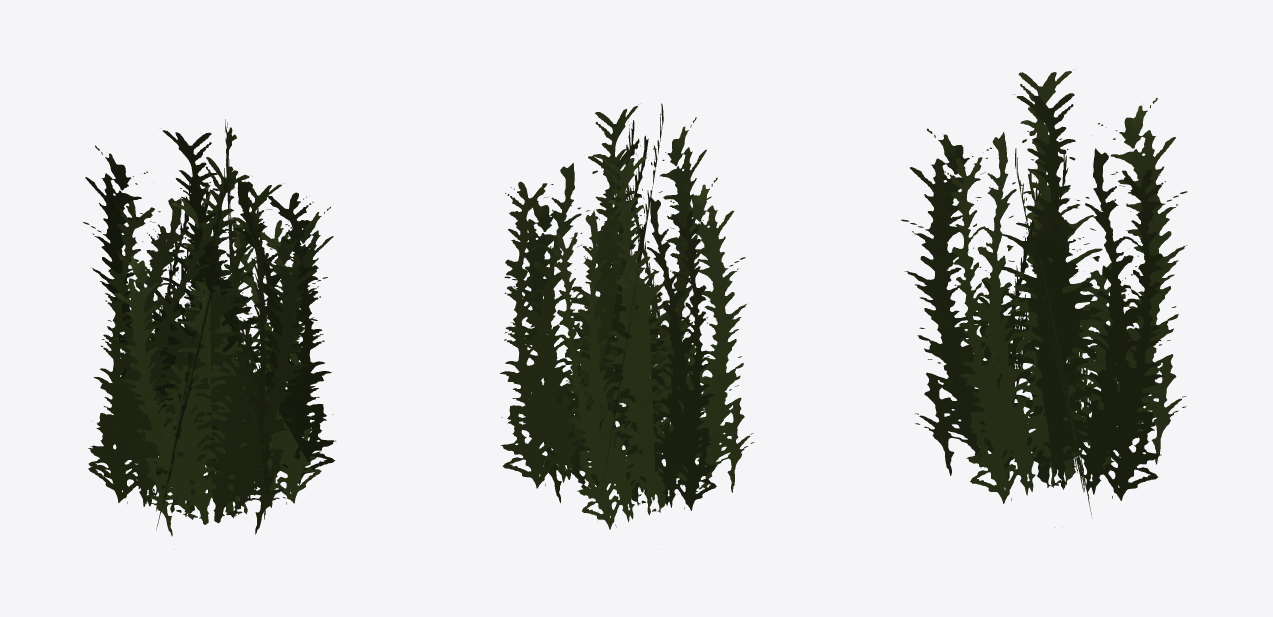
Rendered from Water_Grass_01.fbx.
3 views of the same model, side by side, from view 1: azimuth 30°, elevation 25°; view 2: azimuth 150°, elevation 25°; view 3: azimuth 270°, elevation 25° (orthographic). The views are drawn at different scales.
Visible parts, largest first — view 1: Water_Grass_01; view 2: Water_Grass_01; view 3: Water_Grass_01.
Part boxes in pixels (x1,y1,x2,y2): Water_Grass_01: [83, 119, 336, 549]; Water_Grass_01: [500, 103, 754, 549]; Water_Grass_01: [901, 69, 1187, 527].
Bounding box in the file's own units: 155 × 194 × 153.
1 material, 1 textured.
